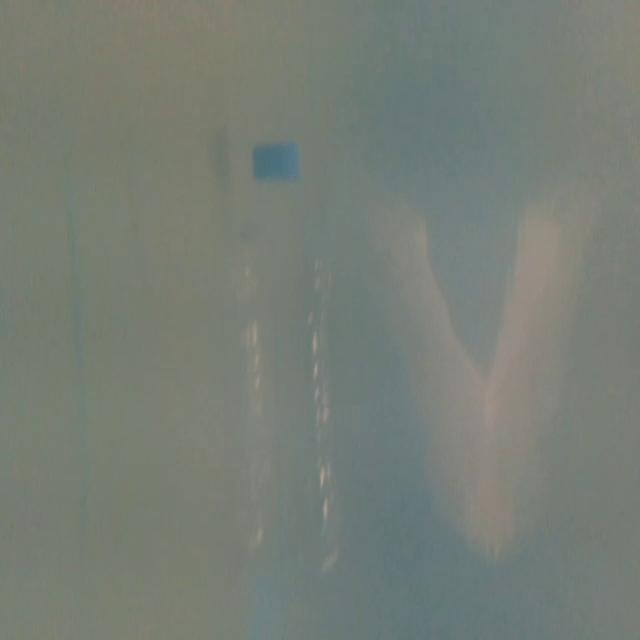plastic bags: (371, 195, 577, 569)
plastic bottle: (230, 138, 346, 584)
